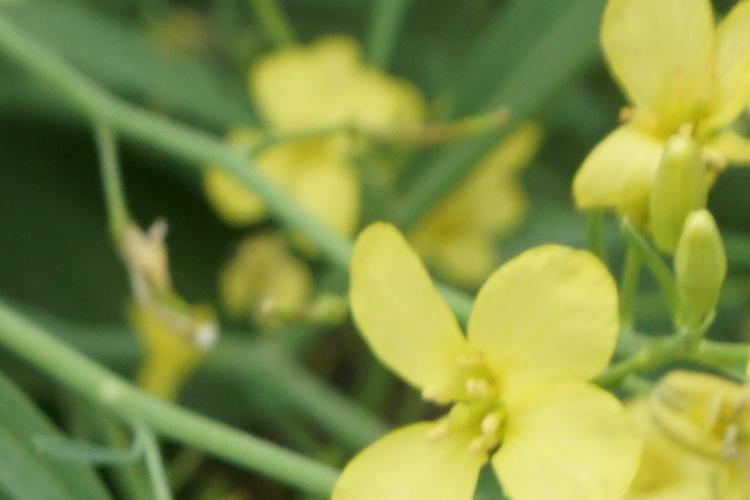bud: (669, 206, 741, 345), (658, 127, 713, 253)
yellow: (336, 229, 638, 497), (584, 6, 746, 203)
